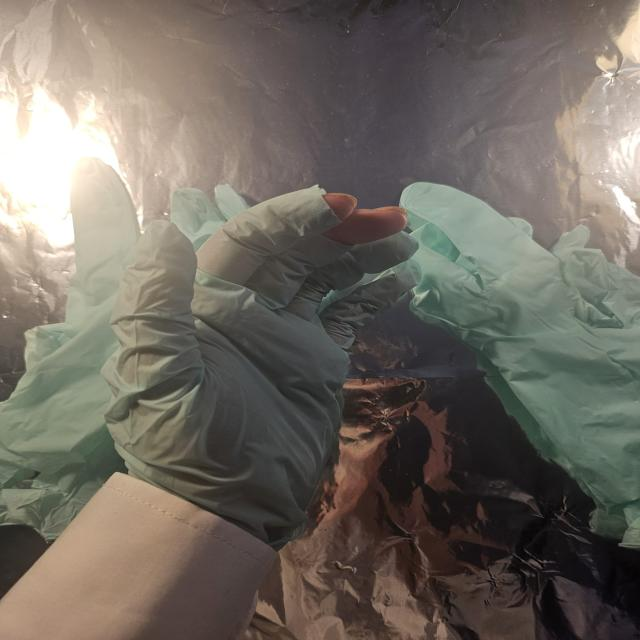gloves_damaged: (99, 184, 422, 550)
